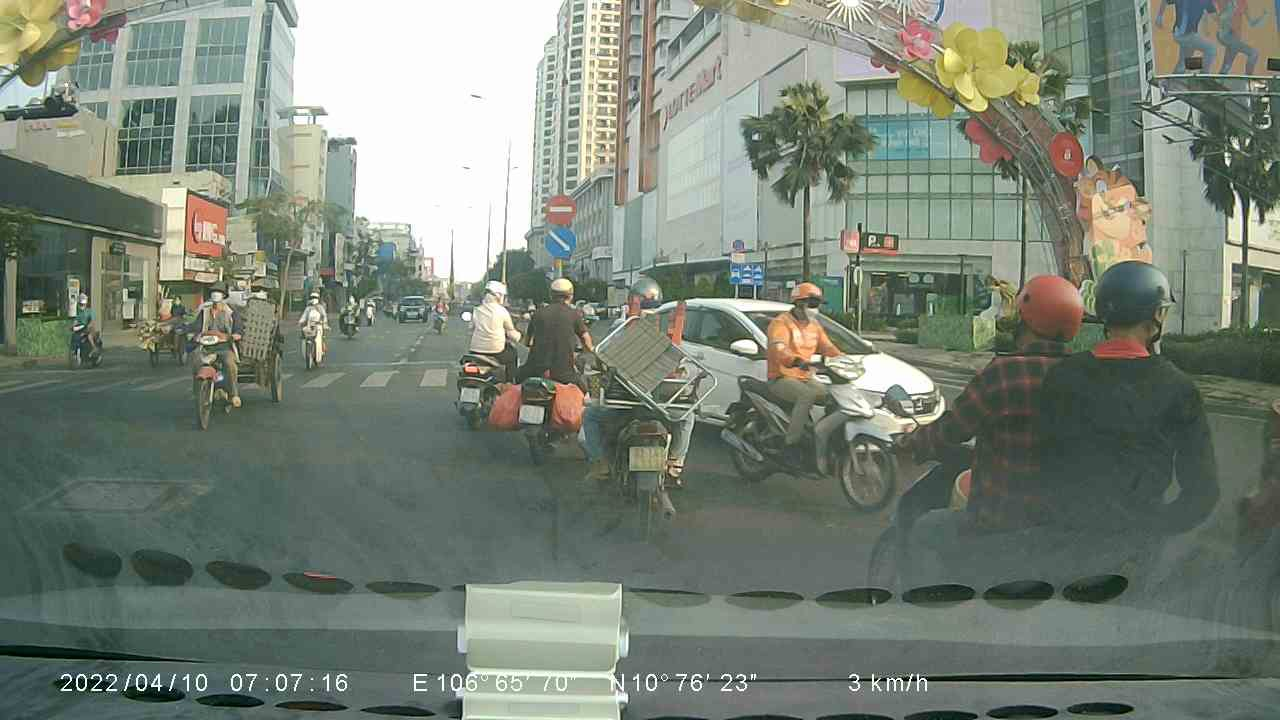Cam di nguoc chieu: (545, 191, 576, 226)
Huong di phai re phai: (545, 226, 578, 257)
